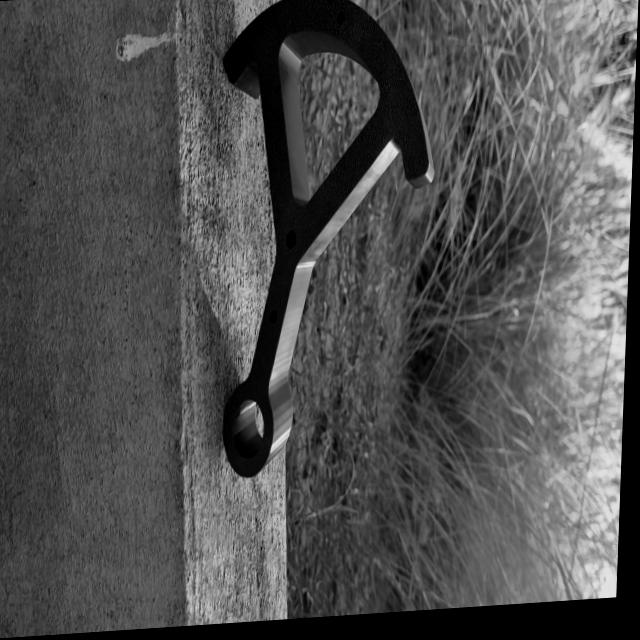haptic: (206, 0, 443, 484)
